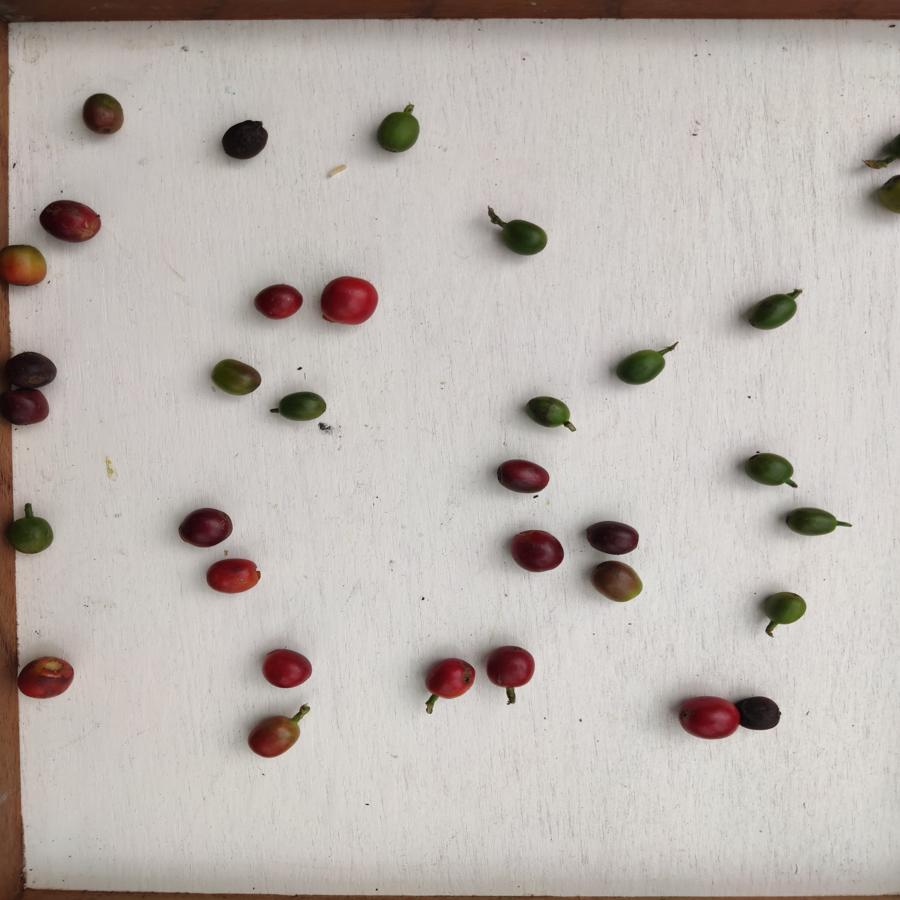Inmaduro: (614, 344, 670, 387), (518, 393, 578, 433), (375, 108, 423, 155), (499, 216, 550, 260), (740, 450, 799, 488), (5, 513, 57, 555), (747, 290, 800, 331), (783, 506, 840, 540), (273, 390, 329, 422), (762, 591, 808, 625)
Maduro: (674, 690, 741, 741), (319, 272, 380, 326), (17, 654, 80, 701), (257, 646, 318, 690), (422, 657, 480, 701), (252, 281, 303, 323), (203, 556, 259, 594)
Pinton: (244, 714, 311, 761), (590, 562, 651, 609), (206, 355, 265, 395), (1, 242, 51, 287), (78, 91, 128, 136)
Sobremaduro: (36, 197, 101, 246), (509, 526, 567, 574), (484, 642, 540, 691), (177, 505, 236, 547), (217, 116, 276, 158), (491, 457, 552, 497), (3, 350, 59, 389), (585, 520, 642, 558), (736, 691, 784, 734), (2, 389, 56, 426)
